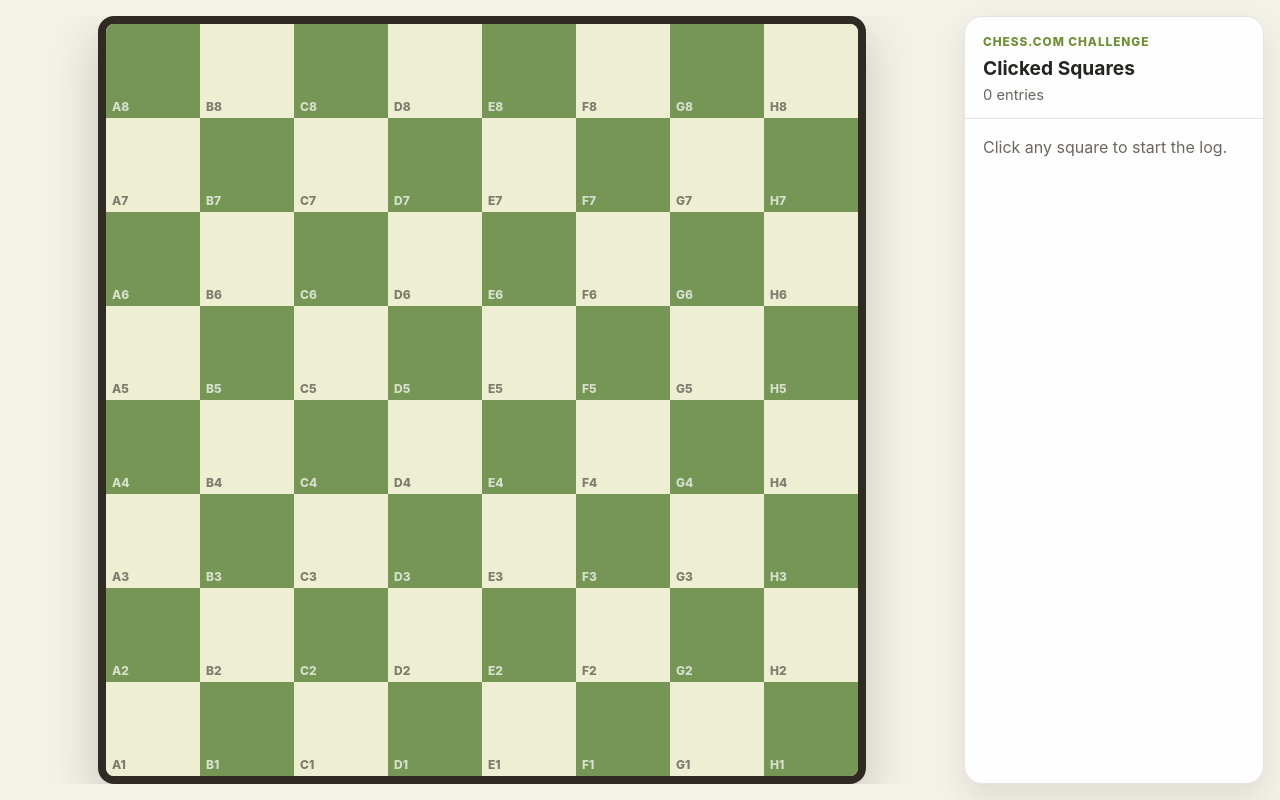
Test: ChessBoard › highlights clicked squares and logs them in click order
Click the cell named "Square a8" at point(153, 71), box [106,24,200,118]
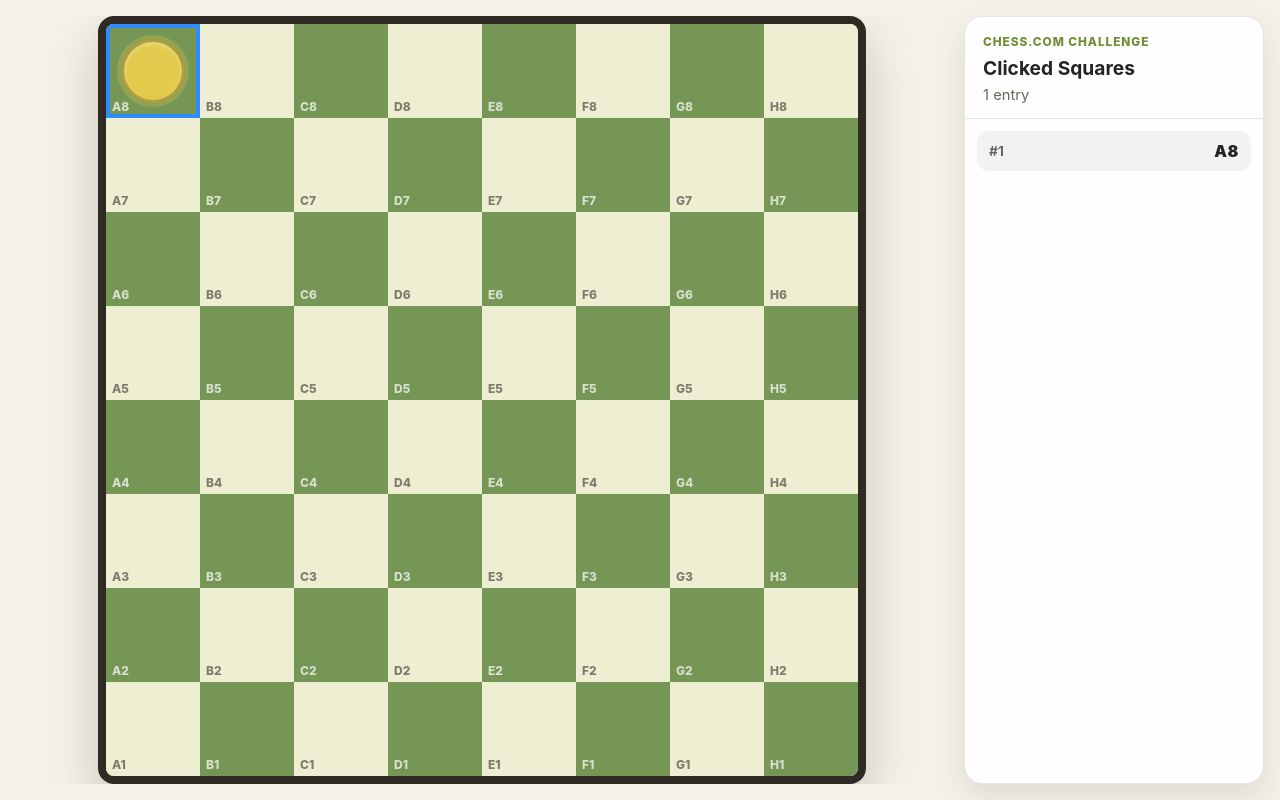
Click the cell named "Square h1" at point(811, 729), box [764,682,858,776]
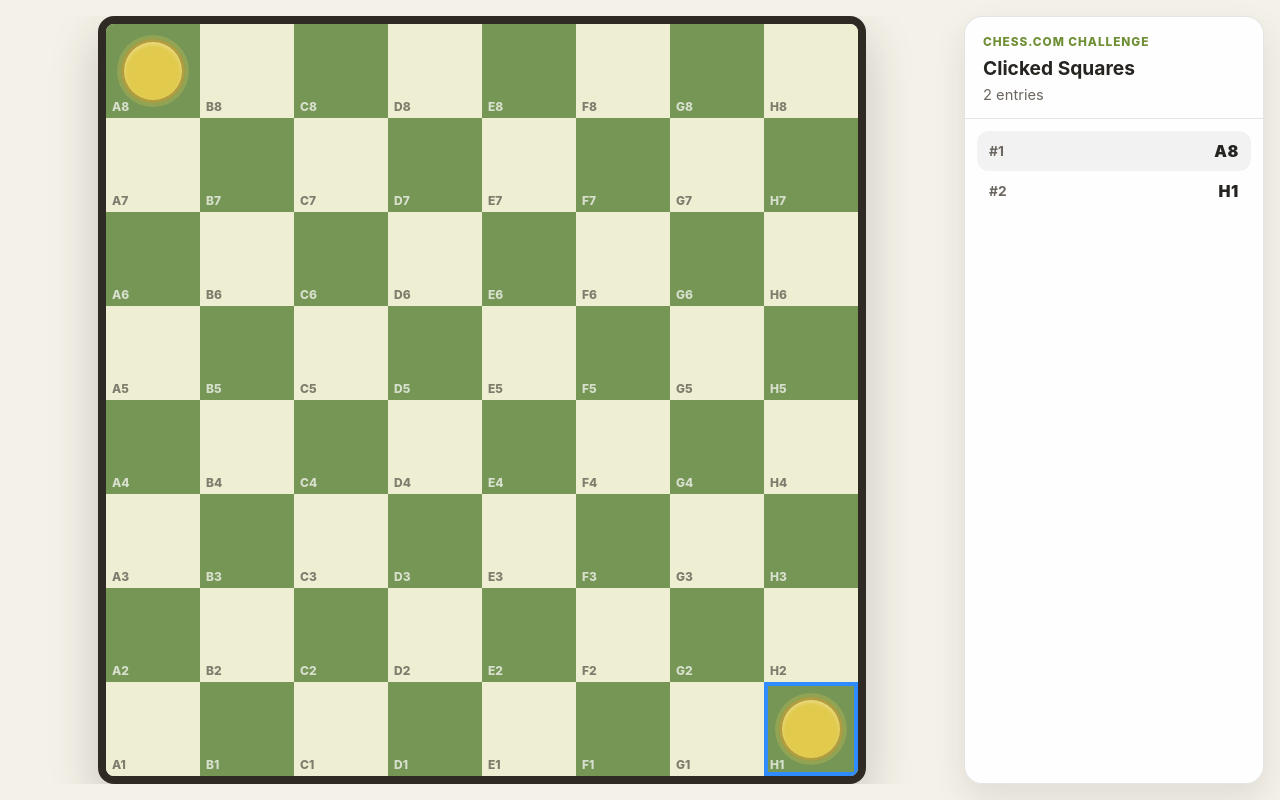
Expected: the list item "#1 a8" is shown, [977,131,1251,171]
Expected: the list item "#2 h1" is shown, [989,181,1239,201]
